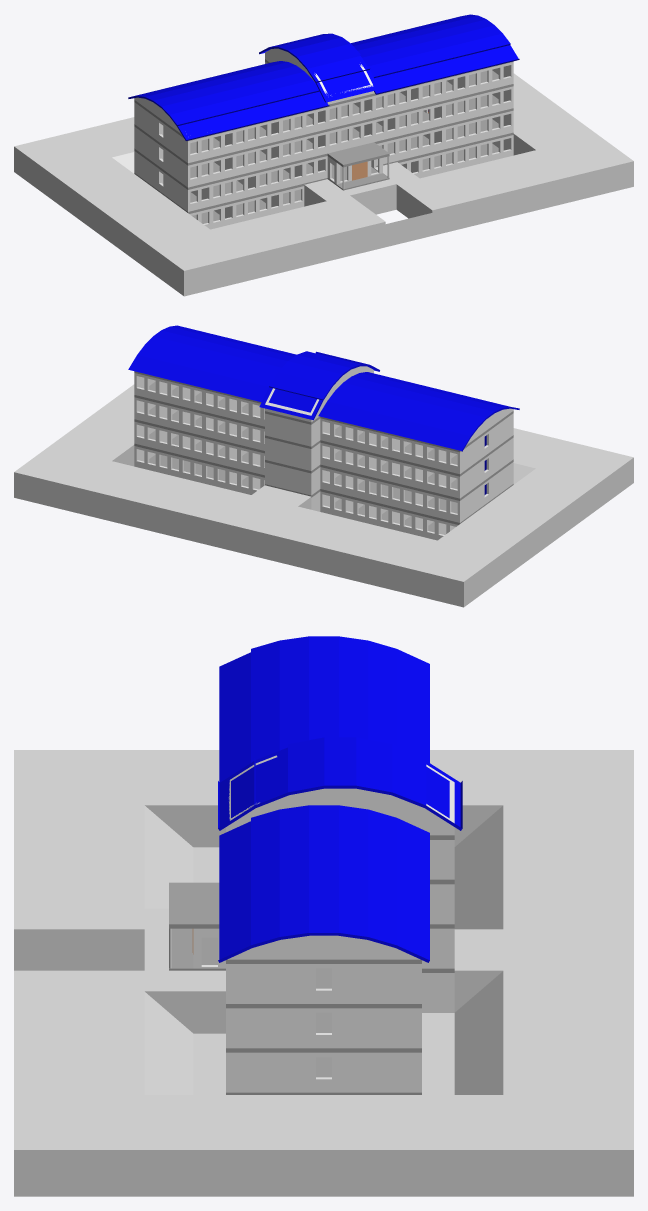
3 views of the same model, one above another, from view 1: azimuth 30°, elevation 25°; view 2: azimuth 150°, elevation 25°; view 3: azimuth 270°, elevation 25° (orthographic). The views are drawn at different scales.
Visible parts, largest first — view 1: 381520_3DElement, 381739_3DElement, 381302_3DElement, 16DXK6IT52exklpypVPiJ, 2BIRaFLrn84RA4JGpZV_uE, 0V2jlSSP53wgh3t1wxkfIr, 343Ww28L0LQO_lRduJYUo, 381083_3DElement, 2RnTa47LFOvYfaL82LCO1, 381958_3DElement, 11c_BVGoz7wqBLUdwVZDC, 3jCSQJWKT3QRSrn3jL_TK2 (+15 smaller); view 2: 381083_3DElement, 381302_3DElement, 16DXK6IT52exklpypVPiJ, 2BIRaFLrn84RA4JGpZV_uE, 381520_3DElement, 2RnTa47LFOvYfaL82LCO1, 381958_3DElement, 1Ha_ZfBhrBEgFcerxq2bao, 3MBJsO2ubBEBpGUsxEMrE8, 2lEu5tVQ1E4hmgSngmZkXh, 2AlPgJrkLERv5g8aFkmfHy, 0Acip40E54phTZubZtqgvj (+17 smaller); view 3: 381083_3DElement, 381958_3DElement, 381739_3DElement, 381520_3DElement, 2BIRaFLrn84RA4JGpZV_uE, 16DXK6IT52exklpypVPiJ, 2RnTa47LFOvYfaL82LCO1, 381302_3DElement, 2aadeO356uRk4qxGtr1nF, 27K8kz2n2tPznZhTTzKUs, 2qdndjgDD0WgEM1WX2mSVe, 384801_3DElement (+19 smaller).
Part boxes in pixels (<box>): 381520_3DElement: <box>148,195,385,296</box>; 381739_3DElement: <box>396,135,633,235</box>; 381302_3DElement: <box>49,157,209,269</box>; 16DXK6IT52exklpypVPiJ: <box>128,61,329,140</box>; 2BIRaFLrn84RA4JGpZV_uE: <box>351,14,519,94</box>; 0V2jlSSP53wgh3t1wxkfIr: <box>186,86,513,187</box>; 343Ww28L0LQO_lRduJYUo: <box>186,62,513,162</box>; 381083_3DElement: <box>14,117,134,197</box>; 2RnTa47LFOvYfaL82LCO1: <box>259,33,379,102</box>; 381958_3DElement: <box>513,73,597,155</box>; 11c_BVGoz7wqBLUdwVZDC: <box>134,95,513,189</box>; 3jCSQJWKT3QRSrn3jL_TK2: <box>189,135,513,229</box>; 381083_3DElement: <box>14,446,499,607</box>; 381302_3DElement: <box>438,468,598,580</box>; 16DXK6IT52exklpypVPiJ: <box>318,372,519,451</box>; 2BIRaFLrn84RA4JGpZV_uE: <box>128,325,296,402</box>; 381520_3DElement: <box>513,428,633,508</box>; 2RnTa47LFOvYfaL82LCO1: <box>259,351,379,420</box>; 381958_3DElement: <box>50,384,134,466</box>; 1Ha_ZfBhrBEgFcerxq2bao: <box>320,418,461,473</box>; 3MBJsO2ubBEBpGUsxEMrE8: <box>320,467,461,522</box>; 2lEu5tVQ1E4hmgSngmZkXh: <box>320,442,461,498</box>; 2AlPgJrkLERv5g8aFkmfHy: <box>134,397,264,450</box>; 0Acip40E54phTZubZtqgvj: <box>134,421,264,475</box>; 381083_3DElement: <box>503,750,633,1196</box>; 381958_3DElement: <box>144,1095,503,1196</box>; 381739_3DElement: <box>14,970,144,1196</box>; 381520_3DElement: <box>14,750,144,970</box>; 2BIRaFLrn84RA4JGpZV_uE: <box>218,805,429,962</box>; 16DXK6IT52exklpypVPiJ: <box>219,636,429,782</box>; 2RnTa47LFOvYfaL82LCO1: <box>218,737,462,830</box>; 381302_3DElement: <box>144,750,503,847</box>; 2aadeO356uRk4qxGtr1nF: <box>231,1052,416,1092</box>; 27K8kz2n2tPznZhTTzKUs: <box>231,1008,416,1048</box>; 2qdndjgDD0WgEM1WX2mSVe: <box>231,964,416,1003</box>; 384801_3DElement: <box>454,806,503,929</box>.
Size of the model in its own units: 58 by 15.9 by 38.
